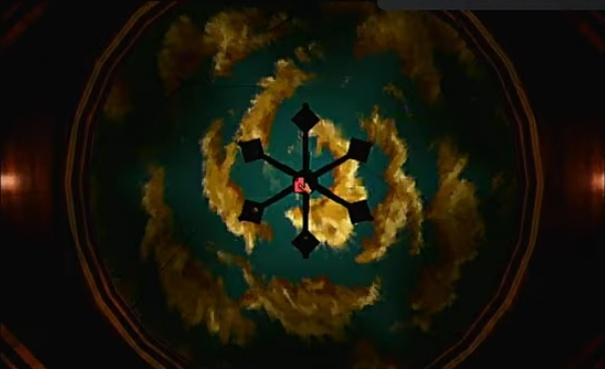Keep: (288, 173, 316, 199)
